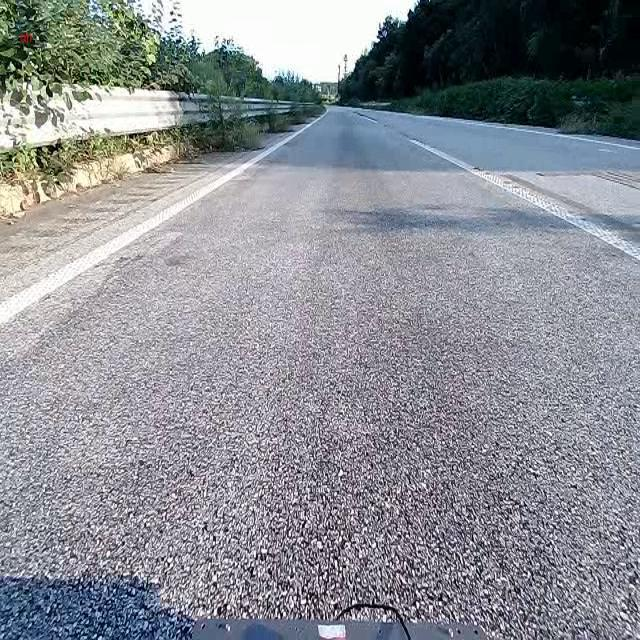Lane: (0, 112, 331, 328), (0, 113, 326, 327), (408, 126, 639, 270), (409, 139, 639, 260)
